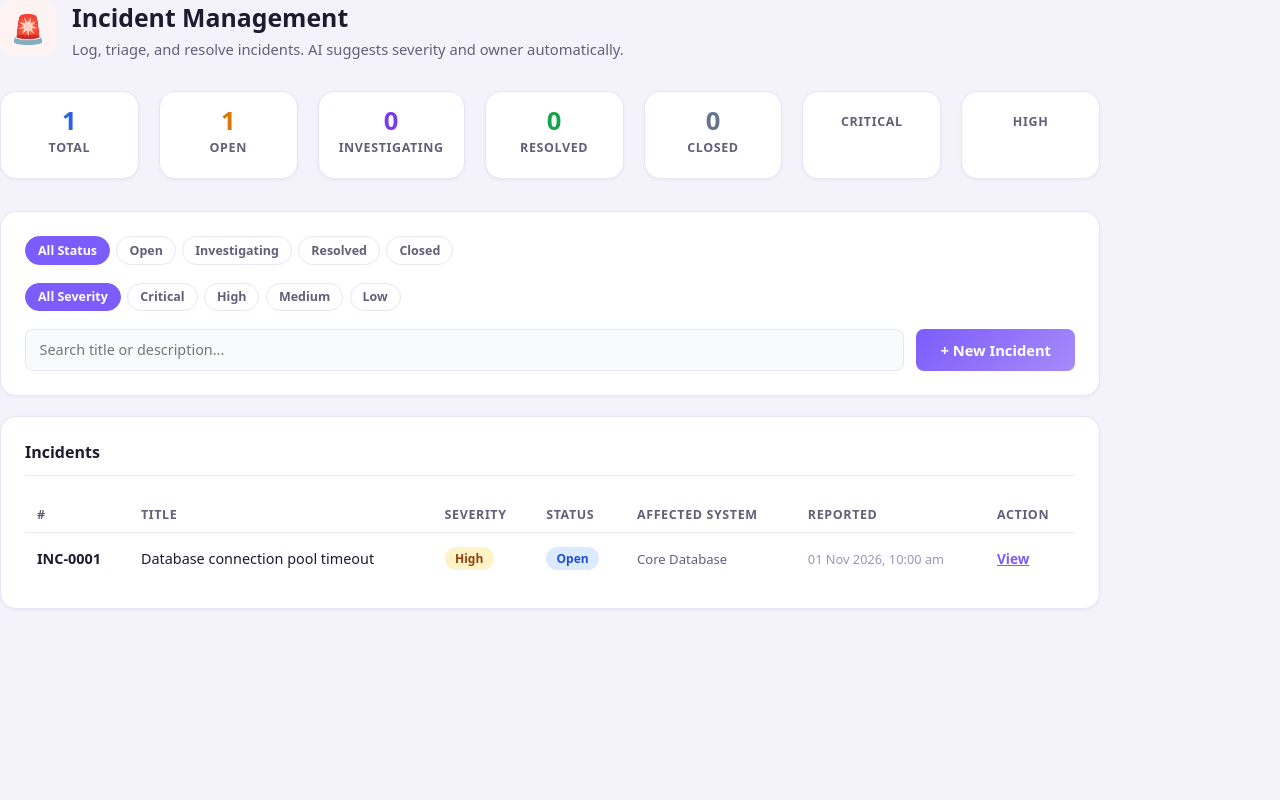
Scenario: IncidentManagement AI Triage › displays visible Run AI Triage button for admin in AI Triage section
Click the row with class "clickable-row" at (550, 558), box [25,533,1075,584]
(page scrolled)
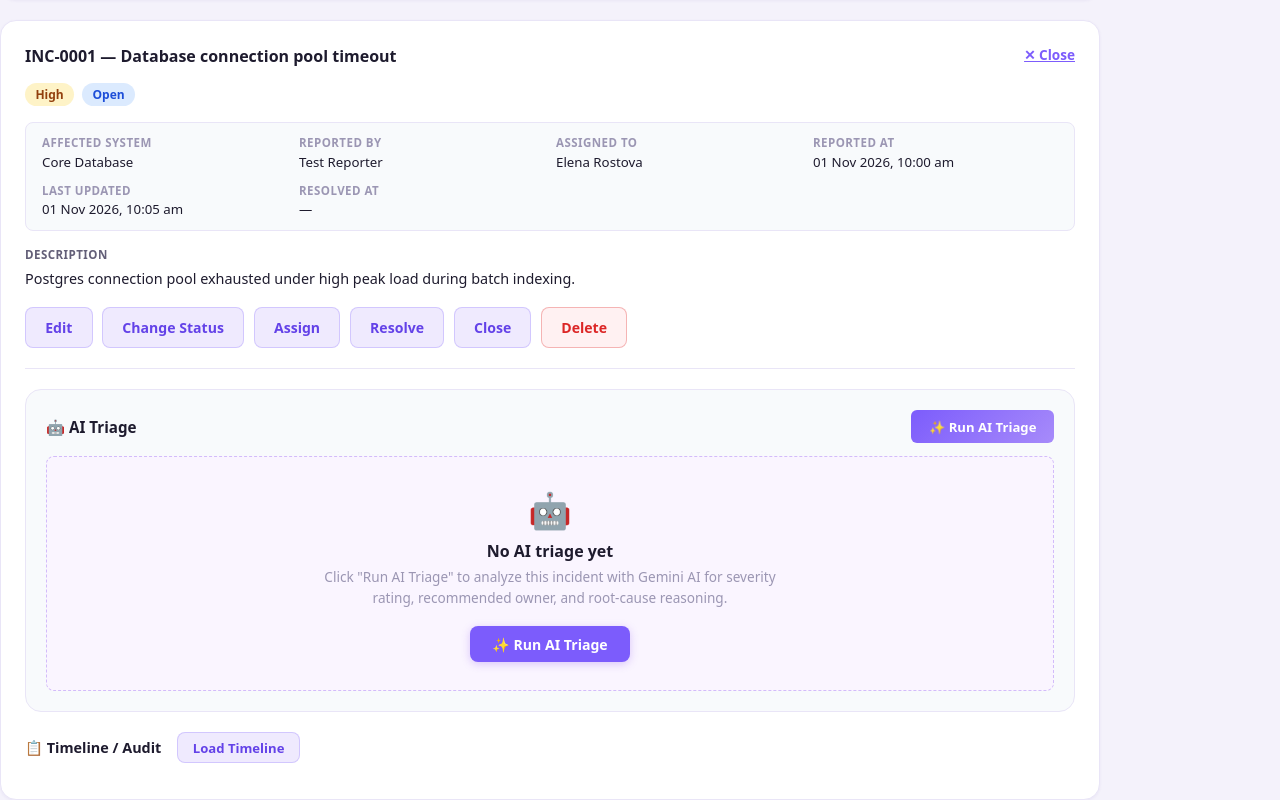
Result: the element with class "inc-triage-section" is shown at [25,389,1075,712]
Result: the element with class "inc-triage-section" shows "No AI triage yet" at [487,540,613,562]
